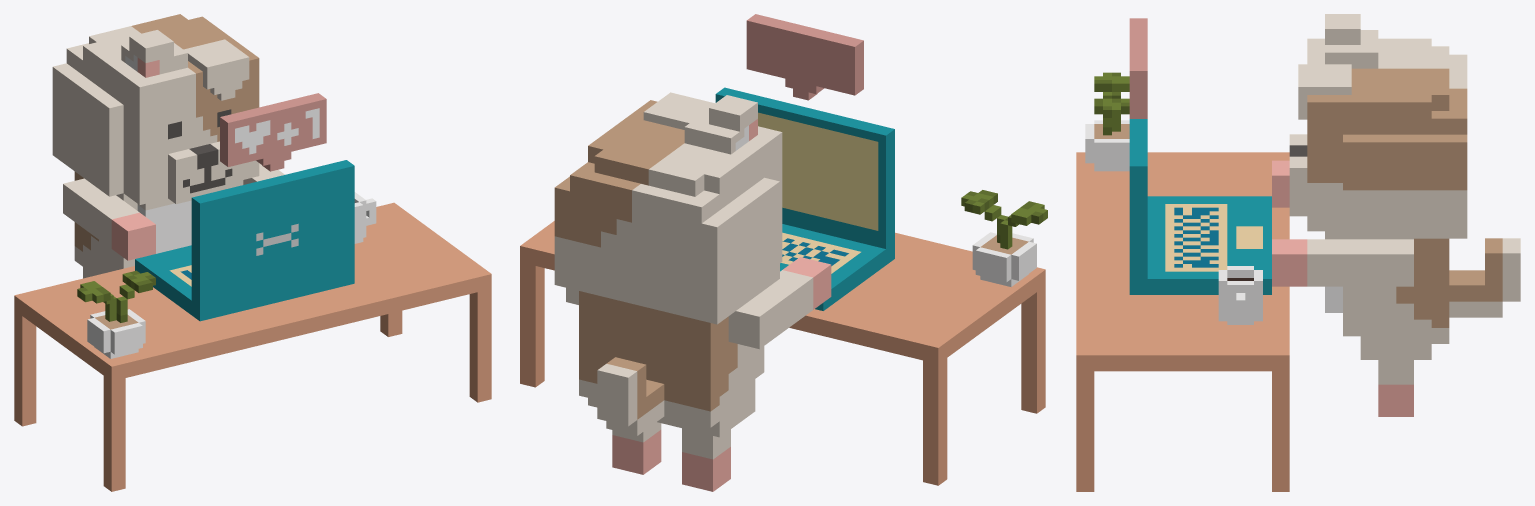
File: dog.glb
3 renders of one model, left to right at view 1: azimuth 30°, elevation 25°; view 2: azimuth 150°, elevation 25°; view 3: azimuth 270°, elevation 25°, orthographic. The views are drawn at different scales.
Visible parts, largest first — view 1: Dog; view 2: Dog; view 3: Dog.
Boxes of the visible parts, x1=… form: Dog: x1=14, y1=14, x2=491, y2=491; Dog: x1=520, y1=14, x2=1047, y2=491; Dog: x1=1076, y1=14, x2=1520, y2=491.
Size of the model in its own units: 3.1 by 2.43 by 2.77.
1 material, 1 textured.
